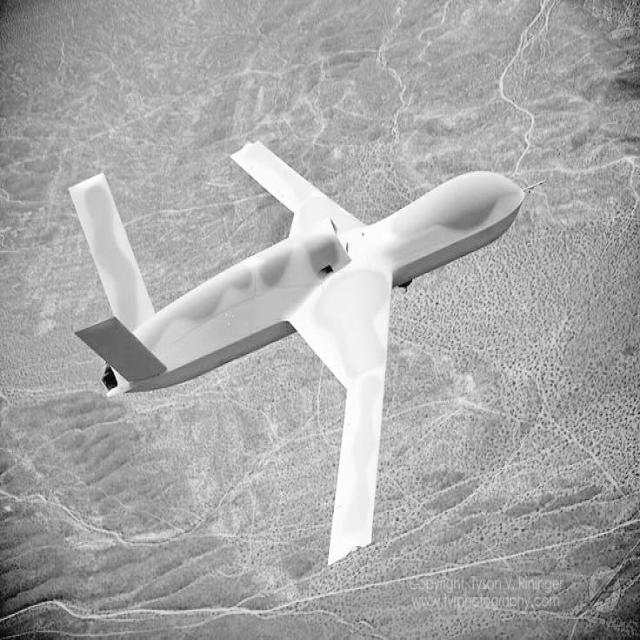iha: (0, 144, 517, 563)
